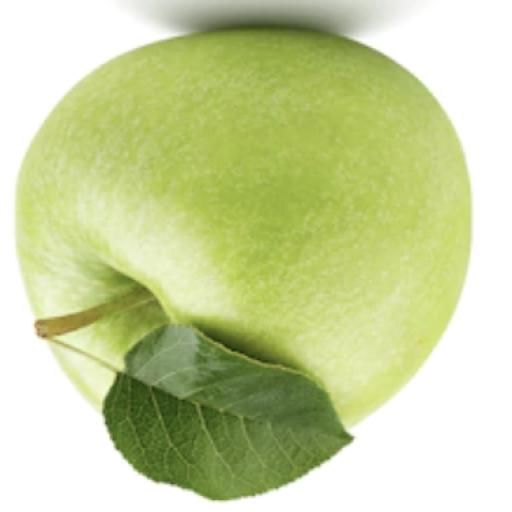apple: (18, 29, 471, 425)
